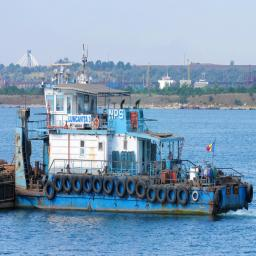tugboat: (14, 59, 256, 225)
